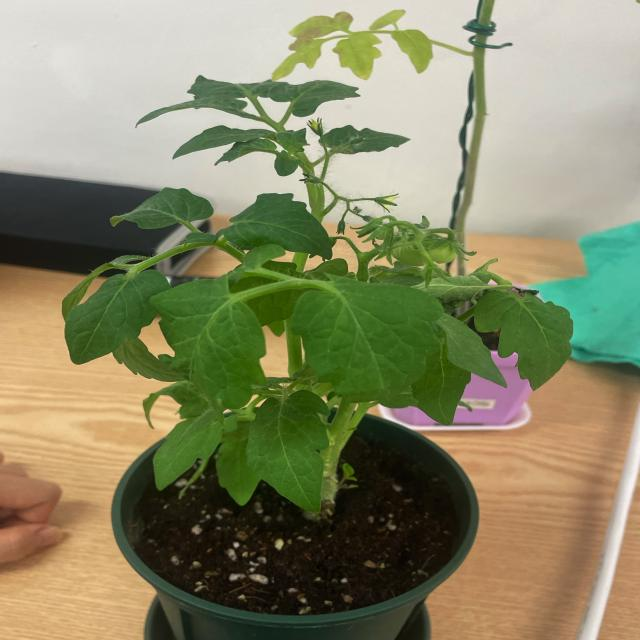level 1: (392, 235, 437, 267), (426, 238, 461, 266)
